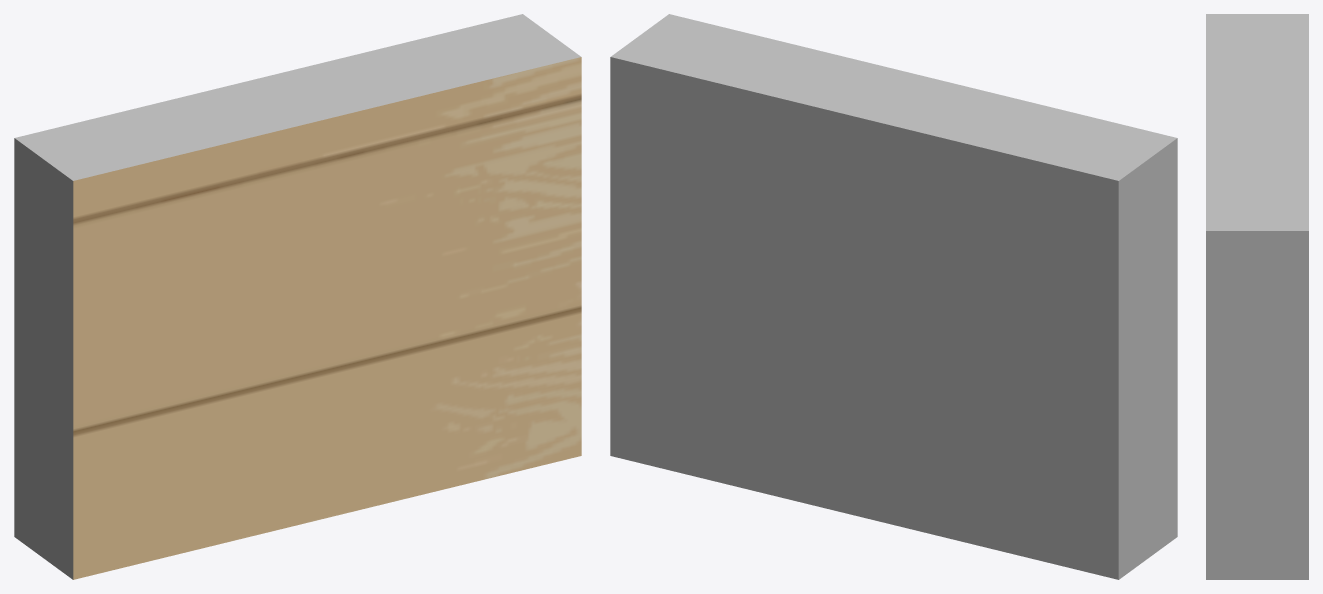
The model's file is Wall Standard Roof 1x3.fbx.
3 views of the same model, side by side, from view 1: azimuth 30°, elevation 25°; view 2: azimuth 150°, elevation 25°; view 3: azimuth 270°, elevation 25° (orthographic). The views are drawn at different scales.
Parts seen in each view (by area): view 1: Wall Standard Roof 1x3; view 2: Wall Standard Roof 1x3; view 3: Wall Standard Roof 1x3.
Boxes of the visible parts, x1,y1,x2,y2 form: Wall Standard Roof 1x3: (14,14,581,579); Wall Standard Roof 1x3: (610,14,1177,579); Wall Standard Roof 1x3: (1206,14,1308,579).
Bounding box in the file's own units: 100 × 75 × 20.
